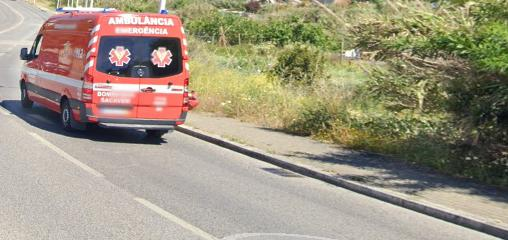vehicle: (20, 7, 190, 138)
